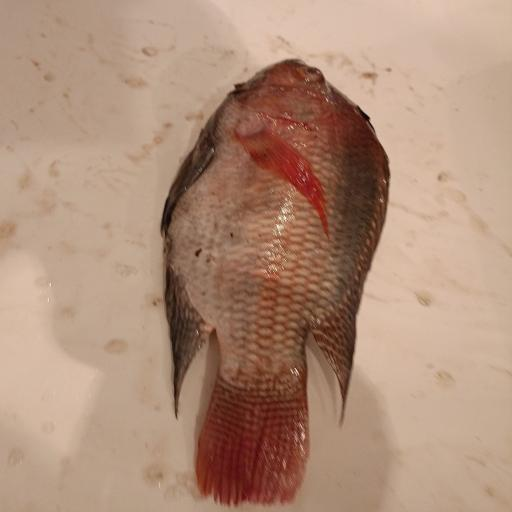Tilapia: (160, 57, 390, 509)
